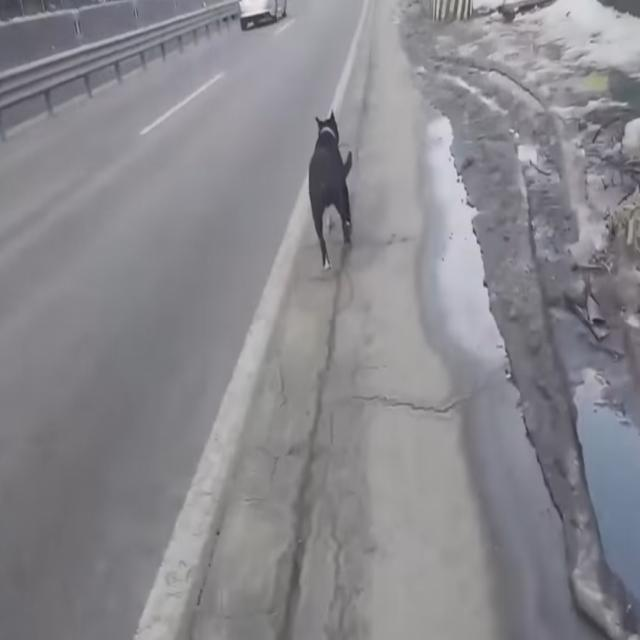dog: (286, 95, 374, 292)
